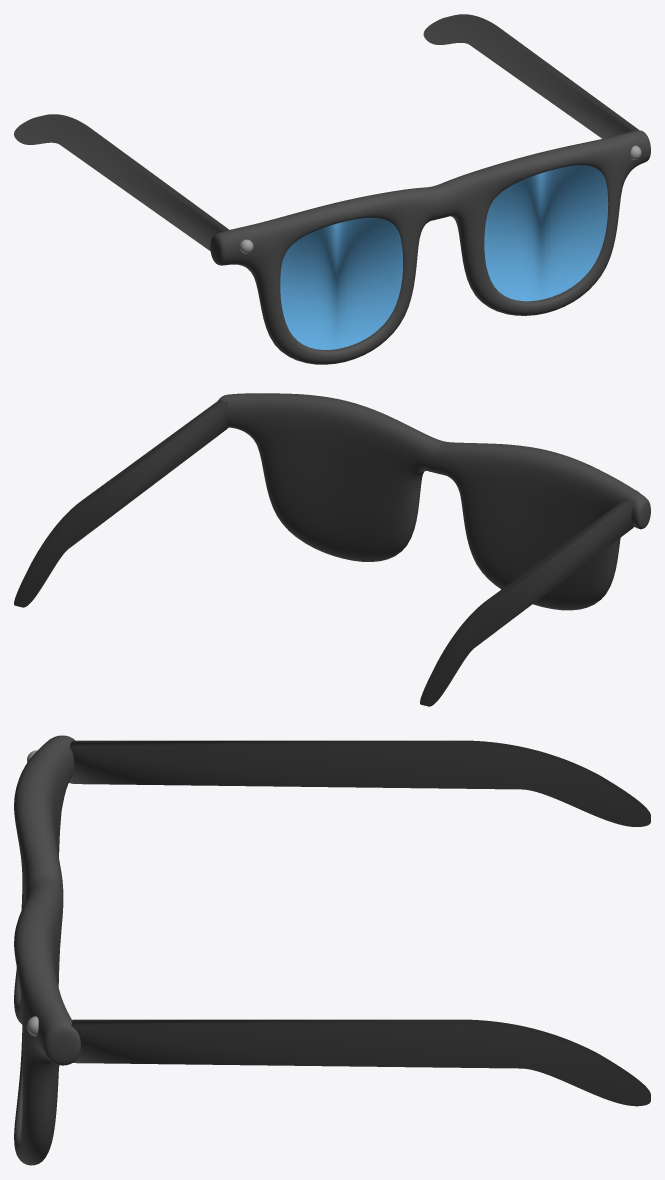
3 renders of one model, top to bottom at view 1: azimuth 30°, elevation 25°; view 2: azimuth 150°, elevation 25°; view 3: azimuth 270°, elevation 25°, orthographic. The views are drawn at different scales.
Parts seen in each view (by area): view 1: glass_l, glass_r, frameglass_r, frameglass_l, leg_r, leg_l; view 2: frameglass_l, frameglass_r, leg_l, leg_r; view 3: leg_r, leg_l, frameglass_l, frameglass_r.
Boxes of the visible parts, bbox=[...] form: glass_l: bbox=[484, 165, 608, 301]; glass_r: bbox=[280, 218, 402, 349]; frameglass_r: bbox=[210, 186, 451, 364]; frameglass_l: bbox=[432, 130, 650, 315]; leg_r: bbox=[14, 114, 228, 250]; leg_l: bbox=[423, 14, 638, 138]; frameglass_l: bbox=[218, 393, 444, 561]; frameglass_r: bbox=[424, 441, 650, 610]; leg_l: bbox=[14, 400, 228, 607]; leg_r: bbox=[420, 499, 633, 706]; leg_r: bbox=[69, 740, 650, 826]; leg_l: bbox=[71, 1019, 650, 1106]; frameglass_l: bbox=[14, 876, 80, 1165]; frameglass_r: bbox=[14, 735, 74, 1024].
Size of the model in its own units: 3.17 by 1.11 by 2.9.
